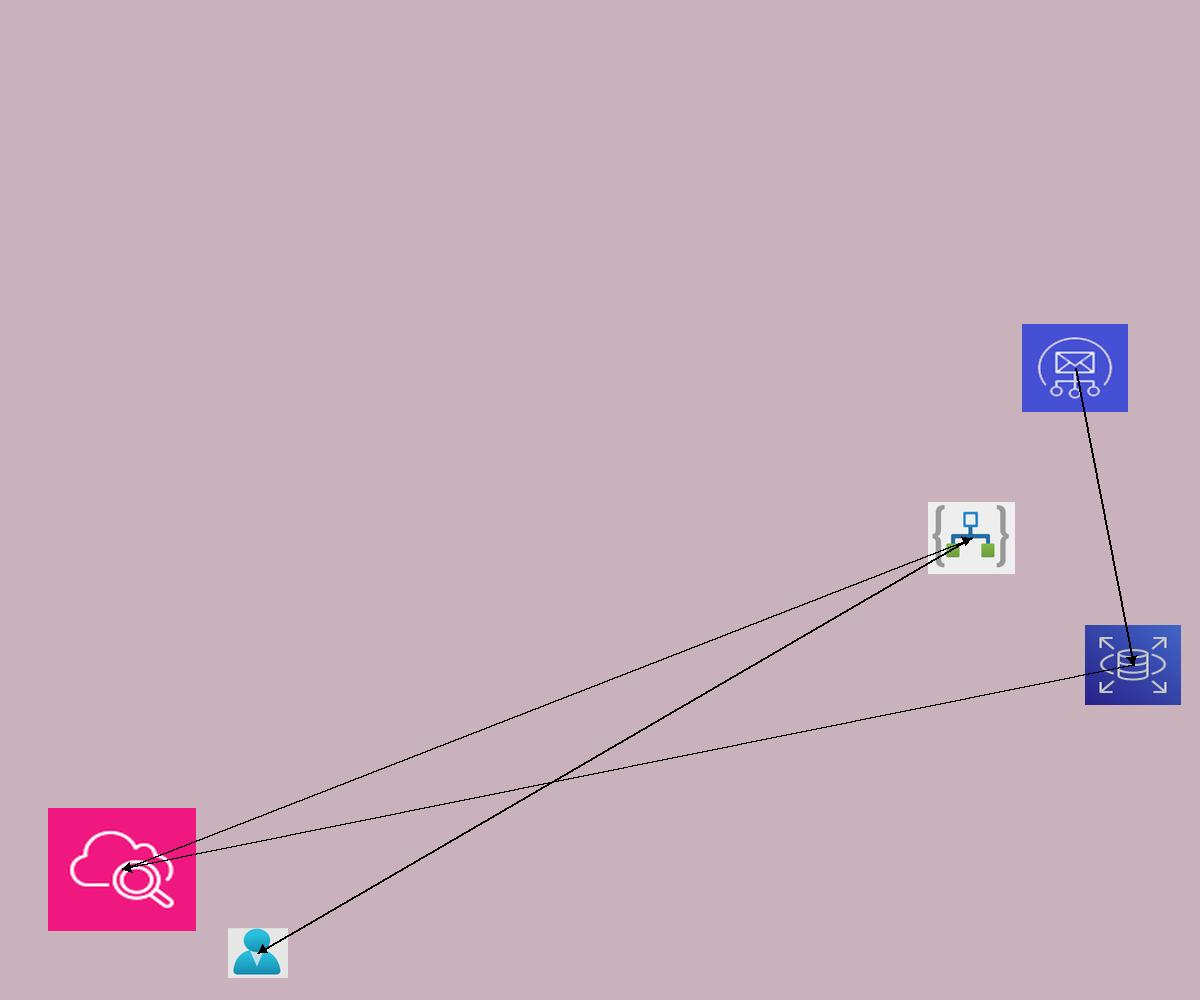AWS-CloudWatch: (48, 808, 196, 931)
AWS-RDS: (1085, 625, 1181, 705)
AWS-Simple-Email-Service: (1022, 324, 1128, 412)
Azure_integration-204-Logic-Apps: (928, 502, 1015, 574)
Azure_users: (228, 928, 288, 978)
